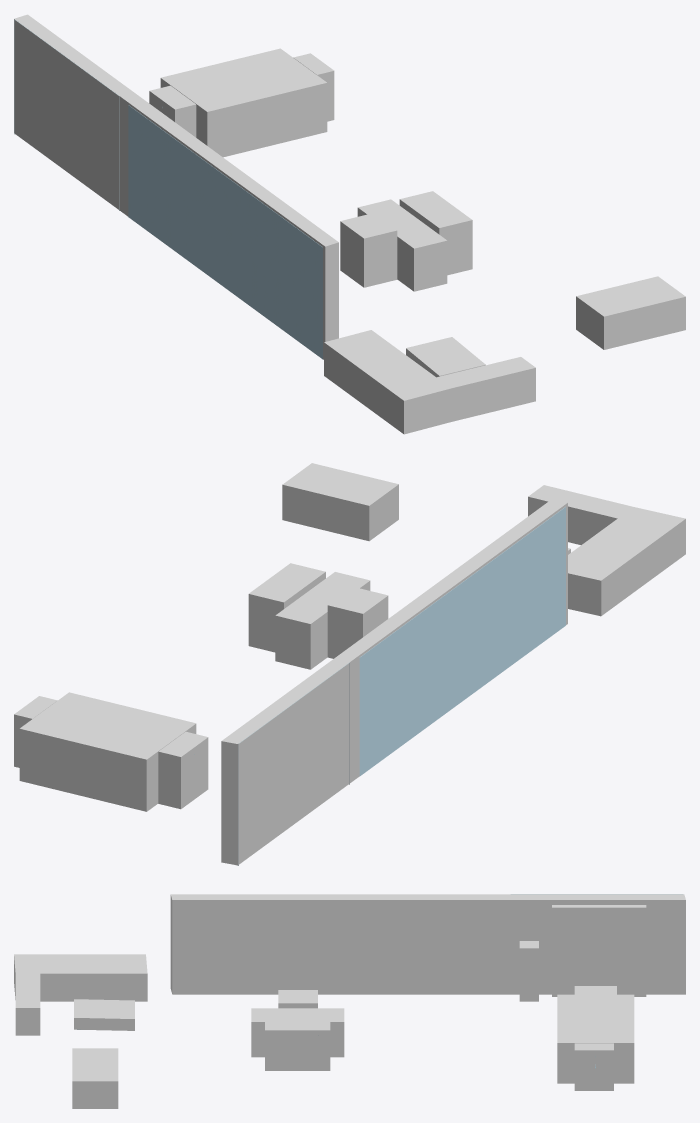
Rendered from Spy_run_Despacho_Collaiders_ok.fbx.
3 renders of one model, top to bottom at view 1: azimuth 30°, elevation 25°; view 2: azimuth 150°, elevation 25°; view 3: azimuth 270°, elevation 25°, orthographic. The views are drawn at different scales.
Parts seen in each view (by area): view 1: Collaiders_Despacho, Armario_Grande; view 2: Collaiders_Despacho, Armario_Grande; view 3: Collaiders_Despacho.
Part boxes in pixels (x1,y1,x2,y2): Collaiders_Despacho: [14, 14, 685, 434]; Armario_Grande: [128, 105, 322, 359]; Collaiders_Despacho: [14, 463, 685, 865]; Armario_Grande: [359, 507, 565, 776]; Collaiders_Despacho: [14, 894, 685, 1108].
Size of the model in its own units: 930 by 332 by 2066.
